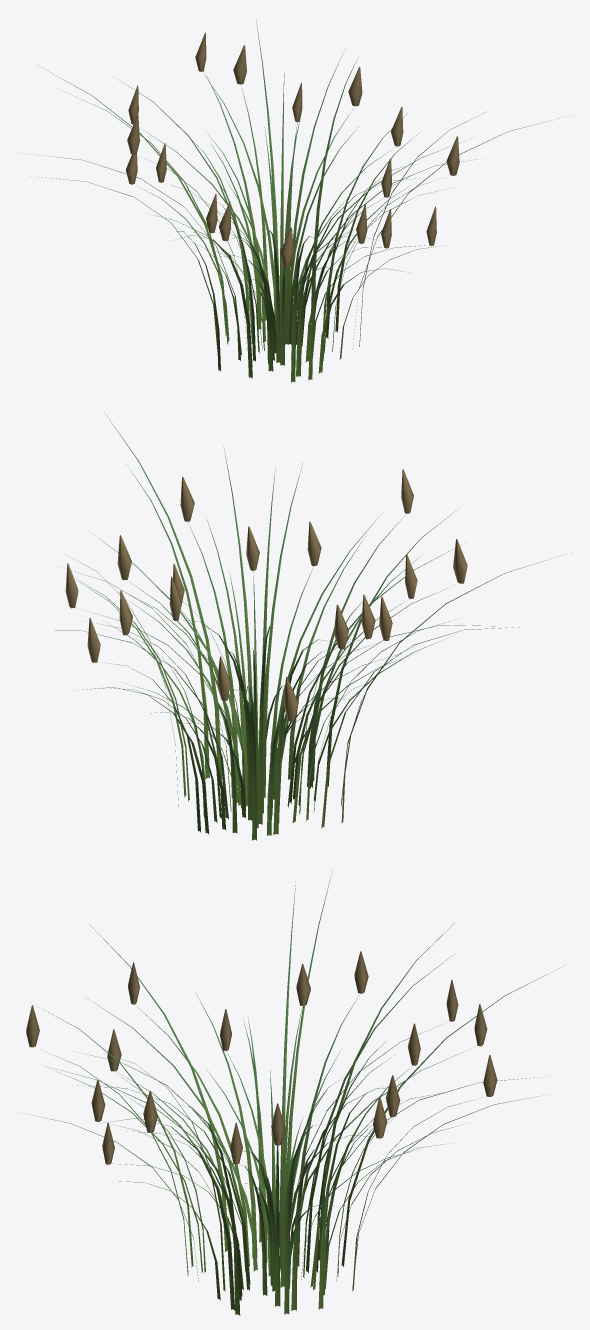
File: Marsh Rush.glb
3 renders of one model, top to bottom at view 1: azimuth 30°, elevation 25°; view 2: azimuth 150°, elevation 25°; view 3: azimuth 270°, elevation 25°, orthographic. The views are drawn at different scales.
Parts seen in each view (by area): view 1: Marsh Rush; view 2: Marsh Rush; view 3: Marsh Rush.
Part boxes in pixels (<box>): Marsh Rush: <box>19,17,558,382</box>; Marsh Rush: <box>55,412,557,840</box>; Marsh Rush: <box>22,870,565,1315</box>.
Bounding box in the file's own units: 2.85 × 1.55 × 2.61.
